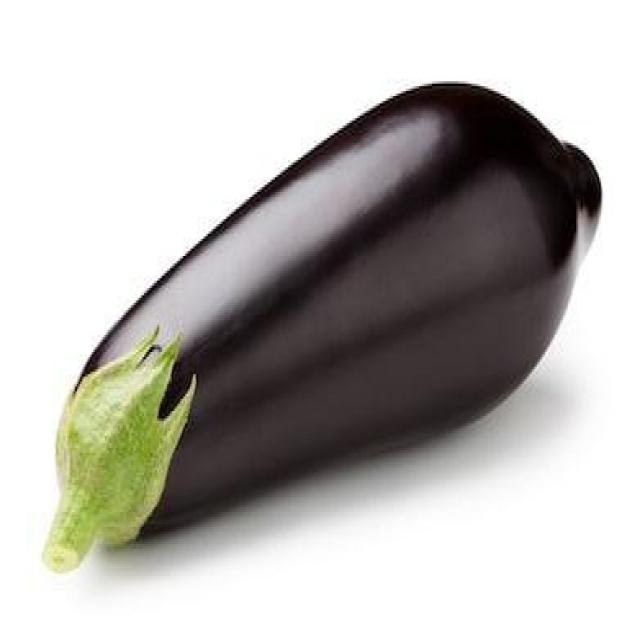eggplant: (40, 73, 604, 586)
